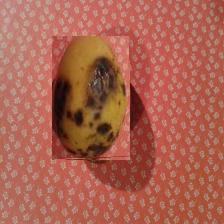Mango Rotten: (53, 37, 131, 161)
